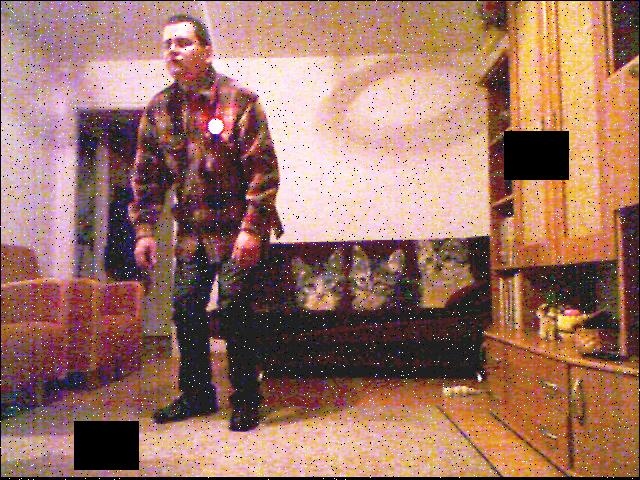bending: (117, 13, 291, 446)
